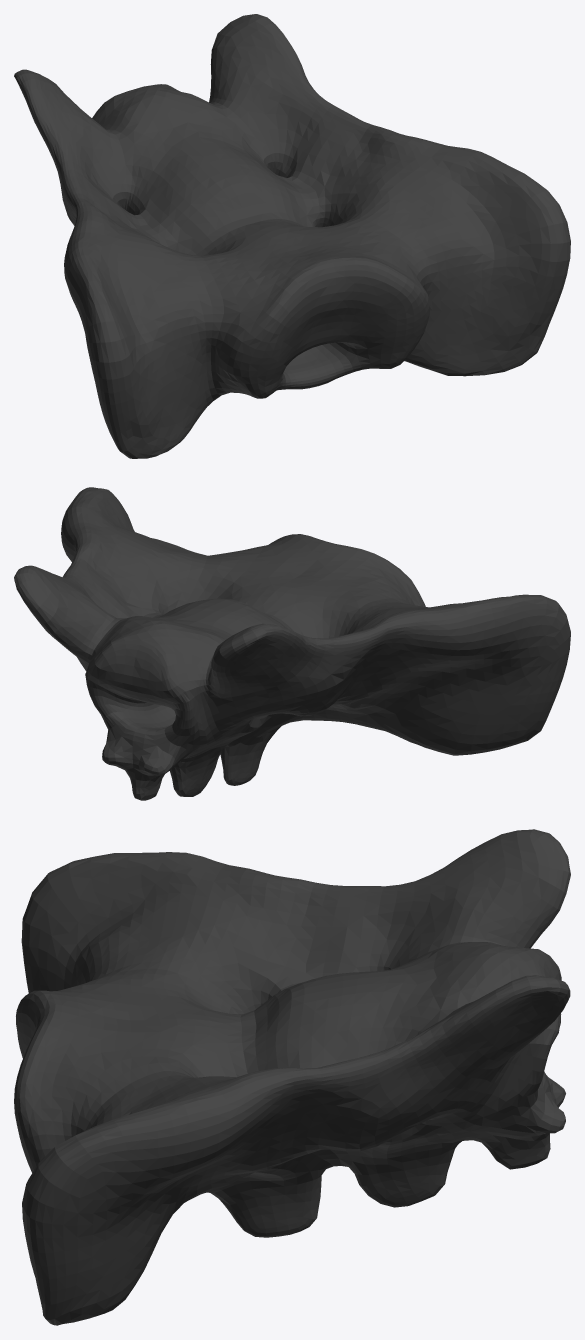
File: Spine_sacrum.glb
The picture shows the model from 3 angles, top to bottom: view 1: azimuth 30°, elevation 25°; view 2: azimuth 150°, elevation 25°; view 3: azimuth 270°, elevation 25°; orthographic projection. The views are drawn at different scales.
Visible parts, largest first — view 1: Spine_sacrum; view 2: Spine_sacrum; view 3: Spine_sacrum.
Boxes of the visible parts, bbox=[...] form: Spine_sacrum: bbox=[14, 14, 570, 458]; Spine_sacrum: bbox=[14, 487, 570, 800]; Spine_sacrum: bbox=[14, 829, 570, 1325].
Bounding box in the file's own units: 0.00206 × 0.00106 × 0.00162.
Materials: 1 (1 with a texture image).
